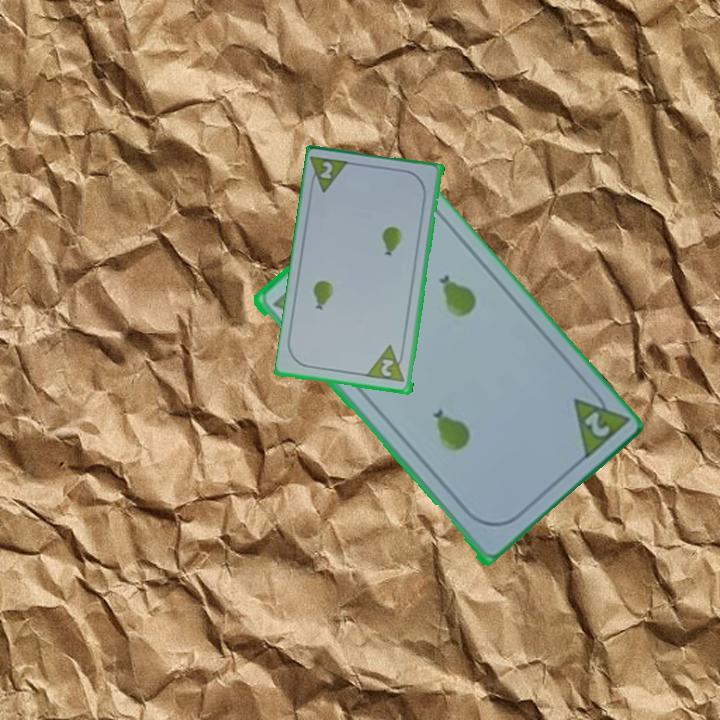2p: (580, 407, 613, 441), (377, 355, 397, 380), (317, 158, 336, 182)
